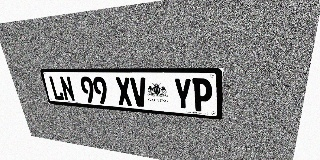9: (79, 76, 97, 103), (92, 77, 109, 104)
L: (48, 76, 65, 101)
N: (59, 76, 76, 102)
P: (192, 78, 212, 112)
V: (130, 77, 148, 107)
X: (115, 77, 133, 106)
Y: (173, 78, 192, 111)
